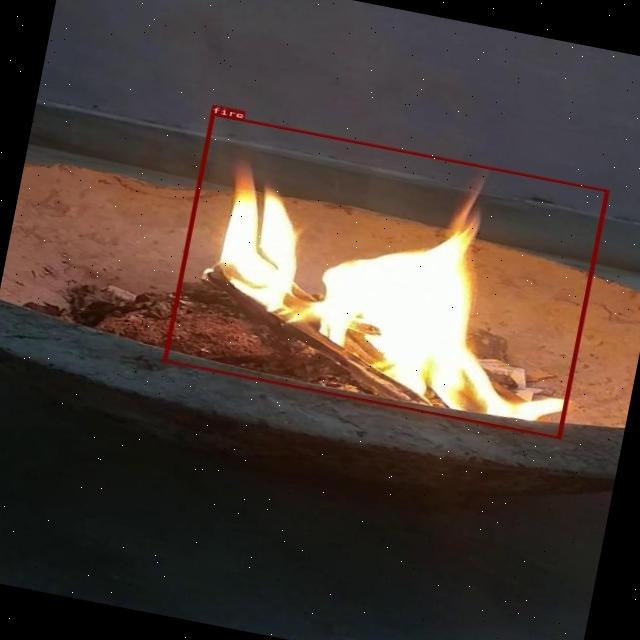fire: (162, 112, 608, 439)
